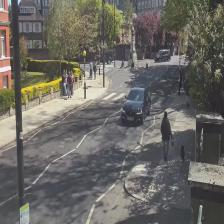person: (160, 111, 173, 160)
